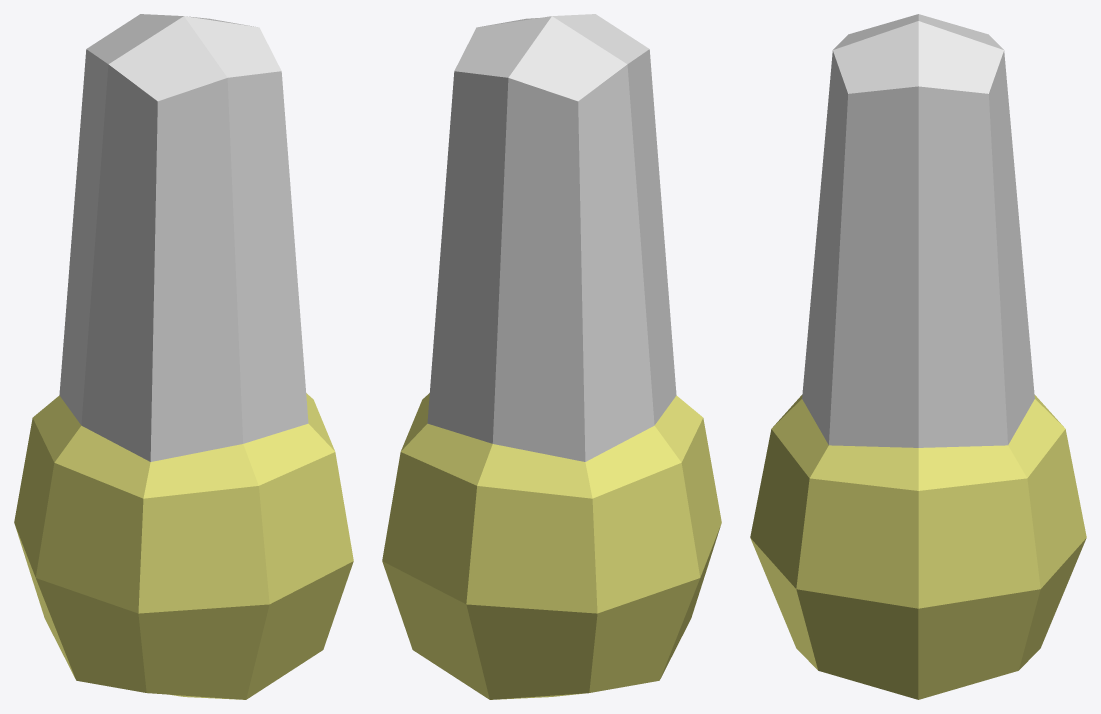
The model's file is Lightbulb.fbx.
3 views of the same model, side by side, from view 1: azimuth 30°, elevation 25°; view 2: azimuth 150°, elevation 25°; view 3: azimuth 270°, elevation 25° (orthographic).
Visible parts, largest first — view 1: Lightbuld; view 2: Lightbuld; view 3: Lightbuld.
Part boxes in pixels (box(x1,y1,x2,y2)): Lightbuld: box(14, 14, 353, 699); Lightbuld: box(382, 14, 721, 699); Lightbuld: box(750, 14, 1086, 699).
Bounding box in the file's own units: 168 × 368 × 168.
